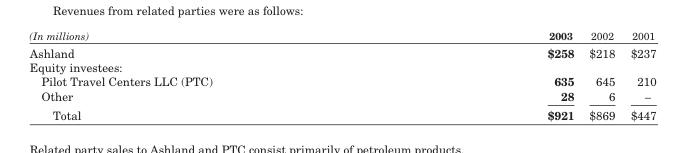table: (28, 28, 655, 121)
table column: (28, 28, 379, 121), (379, 28, 581, 121), (581, 28, 622, 121), (622, 28, 655, 121)
table column header: (28, 28, 655, 43)
table projected row header: (28, 59, 655, 73)
table row: (28, 104, 655, 121), (28, 43, 655, 59), (28, 88, 655, 104), (28, 28, 655, 43), (28, 73, 655, 88), (28, 59, 655, 73)
